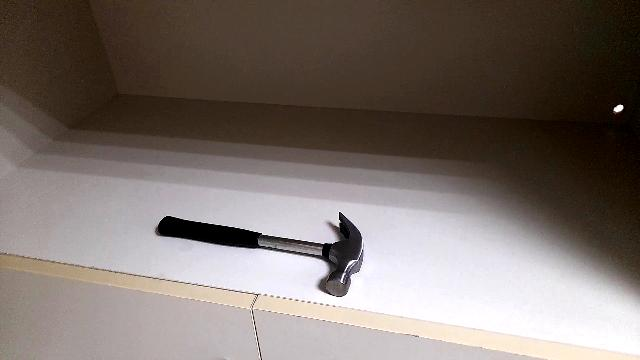hammer: (148, 192, 368, 306)
